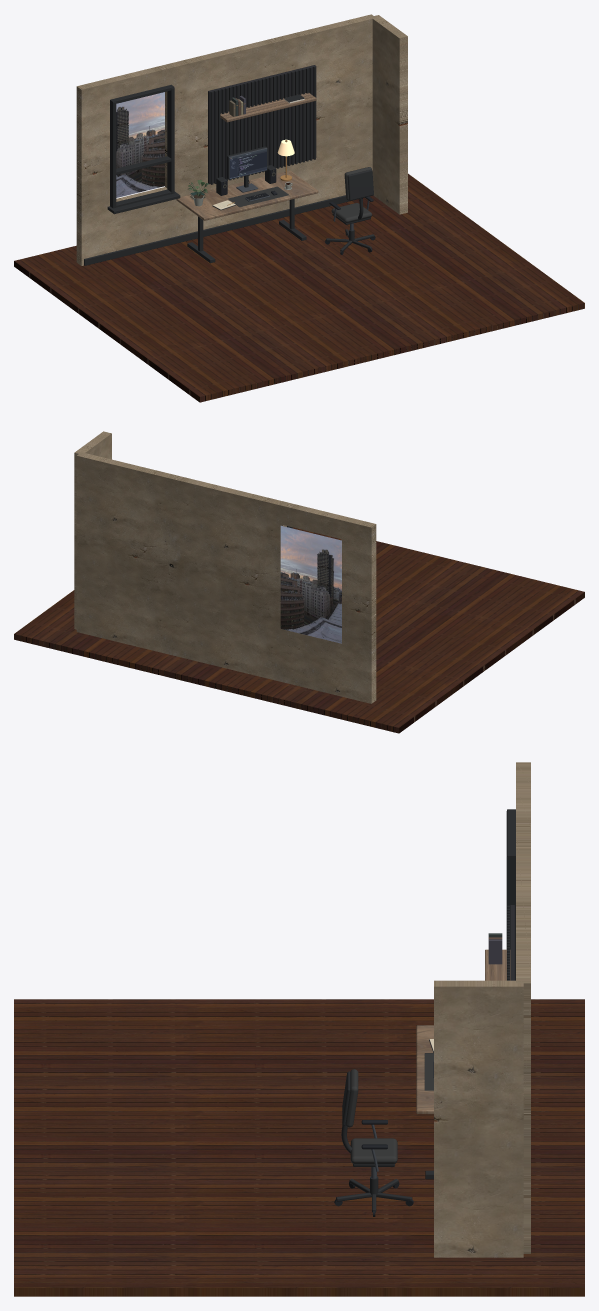
Rendered from hero-studio.glb.
3 views of the same model, one above another, from view 1: azimuth 30°, elevation 25°; view 2: azimuth 150°, elevation 25°; view 3: azimuth 270°, elevation 25° (orthographic). The views are drawn at different scales.
Parts seen in each view (by area): view 1: Oak plank floor, Grey plaster, Graphite powder coat, City at dusk, Acoustic felt, Smoked walnut, Charcoal upholstery, Editor glass; view 2: Grey plaster, Oak plank floor, City at dusk; view 3: Oak plank floor, Grey plaster, Graphite powder coat, Charcoal upholstery, Smoked walnut.
Boxes of the visible parts, <box> form: Oak plank floor: <box>14,173,584,402</box>; Grey plaster: <box>76,14,407,265</box>; Graphite powder coat: <box>84,66,374,265</box>; City at dusk: <box>116,92,164,197</box>; Acoustic felt: <box>208,65,316,184</box>; Smoked walnut: <box>176,93,318,220</box>; Charcoal upholstery: <box>228,167,372,223</box>; Editor glass: <box>230,149,266,178</box>; Grey plaster: <box>74,431,376,703</box>; Oak plank floor: <box>14,527,584,733</box>; City at dusk: <box>280,525,341,643</box>; Oak plank floor: <box>14,999,584,1296</box>; Grey plaster: <box>434,762,530,1257</box>; Graphite powder coat: <box>336,809,515,1212</box>; Charcoal upholstery: <box>345,1053,433,1164</box>; Smoked walnut: <box>416,949,510,1114</box>.
Bounding box in the file's own units: 6.4 × 2.89 × 5.35.
33 materials, 6 textured.
